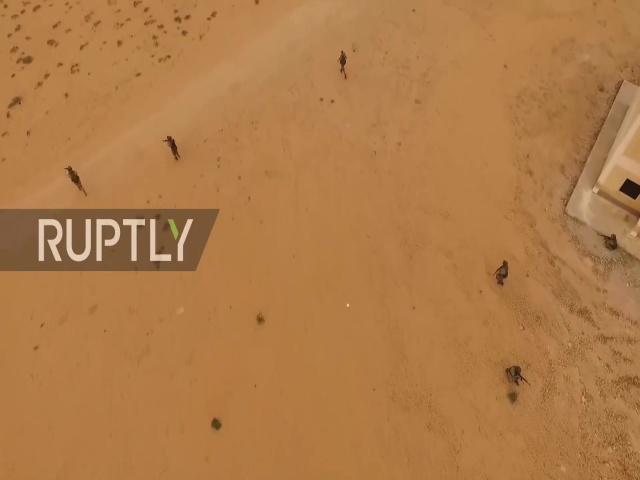person: (64, 163, 91, 200), (490, 261, 510, 289), (164, 134, 183, 162), (337, 50, 350, 82)
